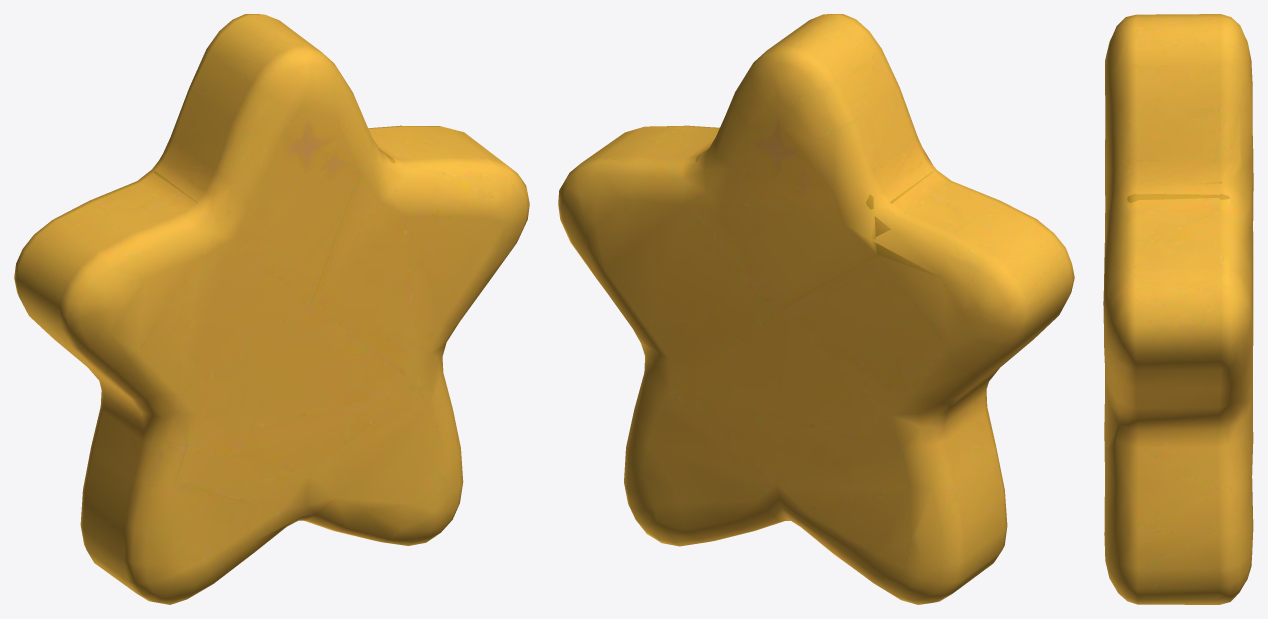
Rendered from star.glb.
The picture shows the model from 3 angles, left to right: view 1: azimuth 30°, elevation 25°; view 2: azimuth 150°, elevation 25°; view 3: azimuth 270°, elevation 25°; orthographic projection.
Parts seen in each view (by area): view 1: geometry_0; view 2: geometry_0; view 3: geometry_0.
Part boxes in pixels (box(x1,y1,x2,y2)): geometry_0: box(14, 14, 529, 604); geometry_0: box(558, 14, 1074, 604); geometry_0: box(1103, 14, 1253, 604).
Size of the model in its own units: 0.9325 by 1 by 0.2609.
Materials: 1 (1 with a texture image).
